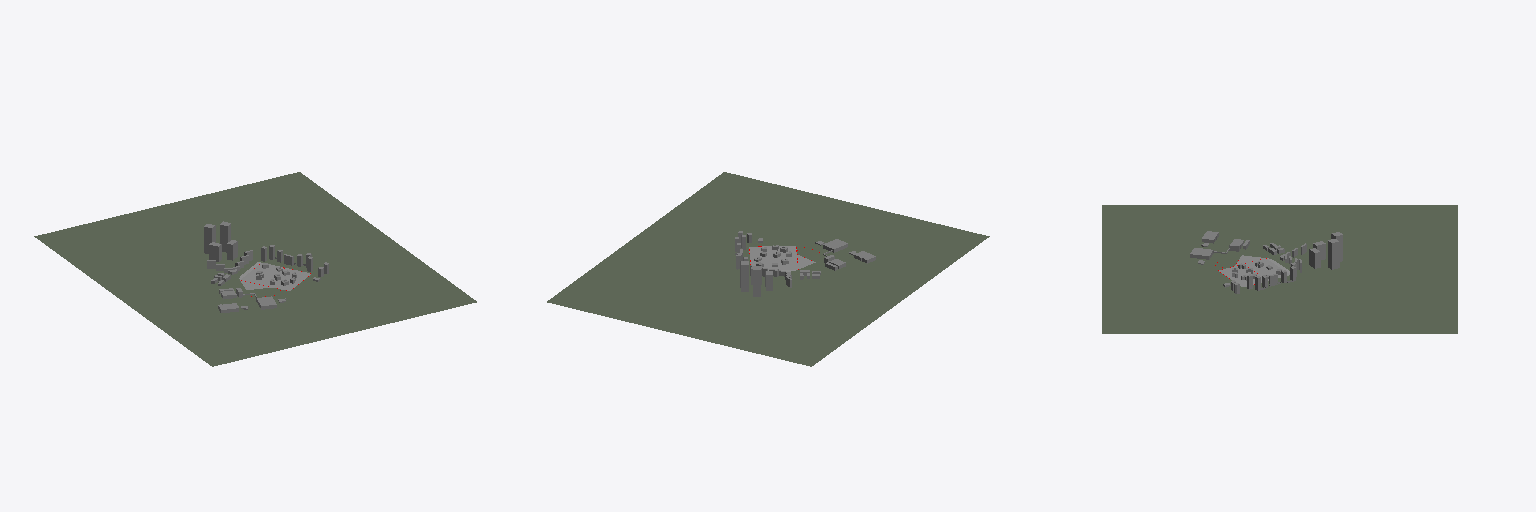
3 renders of one model, left to right at view 1: azimuth 30°, elevation 25°; view 2: azimuth 150°, elevation 25°; view 3: azimuth 270°, elevation 25°, orthographic.
Parts seen in each view (by area): view 1: Vegetation_Blur_02, _auto_1, Color_M01; view 2: Vegetation_Blur_02, _auto_1, Color_M01; view 3: Vegetation_Blur_02, _auto_1, Color_M01.
Boxes of the visible parts, x1,y1,x2,y2 form: Vegetation_Blur_02: [34, 172, 476, 366]; _auto_1: [204, 221, 328, 312]; Color_M01: [240, 263, 310, 290]; Vegetation_Blur_02: [547, 172, 989, 366]; _auto_1: [735, 231, 875, 296]; Color_M01: [749, 246, 815, 269]; Vegetation_Blur_02: [1102, 205, 1457, 333]; _auto_1: [1190, 231, 1342, 293]; Color_M01: [1219, 255, 1289, 286].
Size of the model in its own units: 1872 by 180 by 2176.